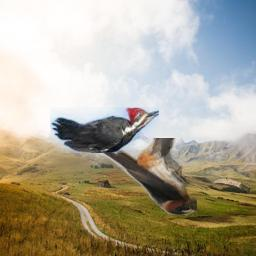Swallow: (87, 138, 197, 215)
Woodpecker: (50, 107, 159, 153)
